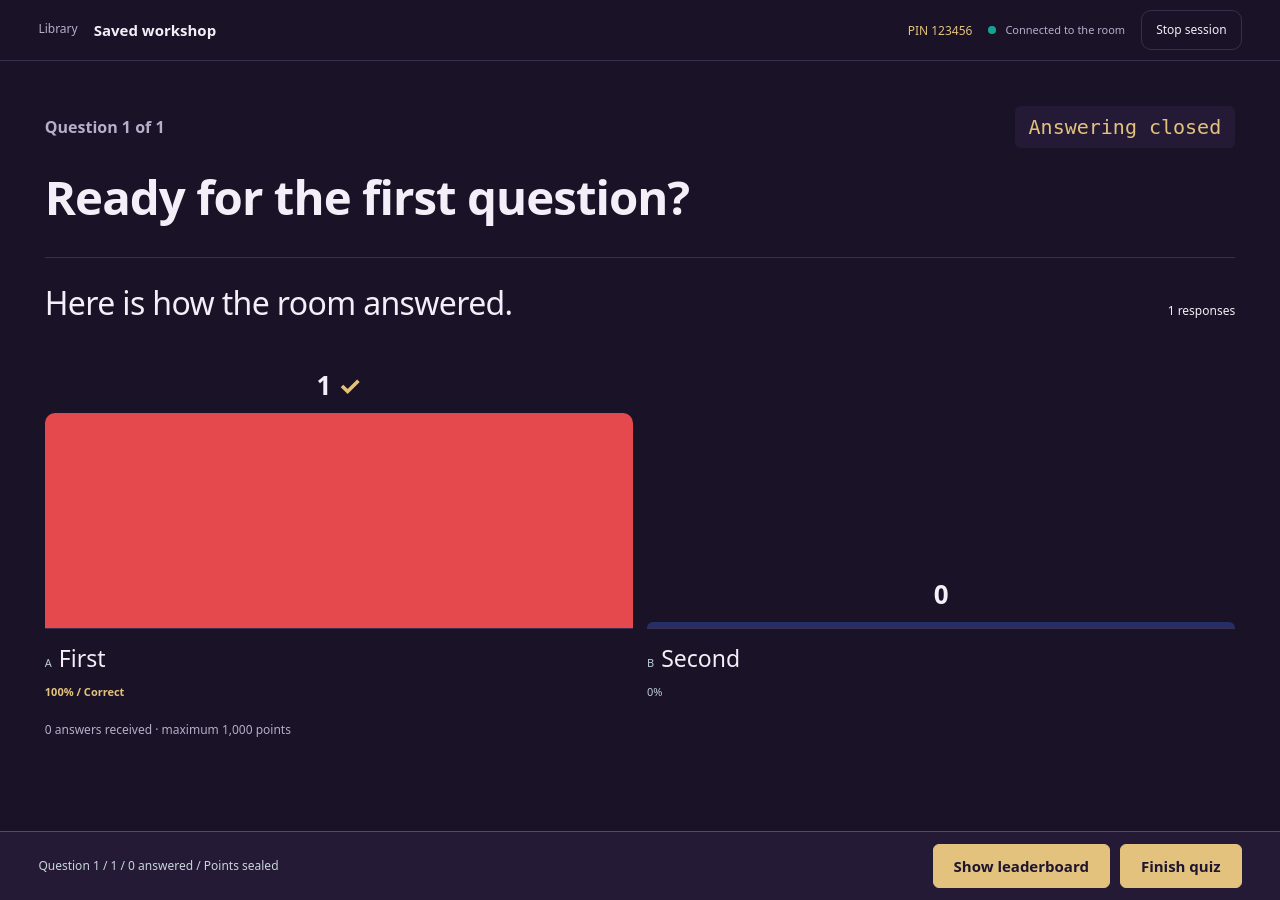
Test: uses one presentation canvas and replaces the question with the published leaderboard
Click the button "Show leaderboard" at (1021, 866), box [932, 844, 1110, 888]
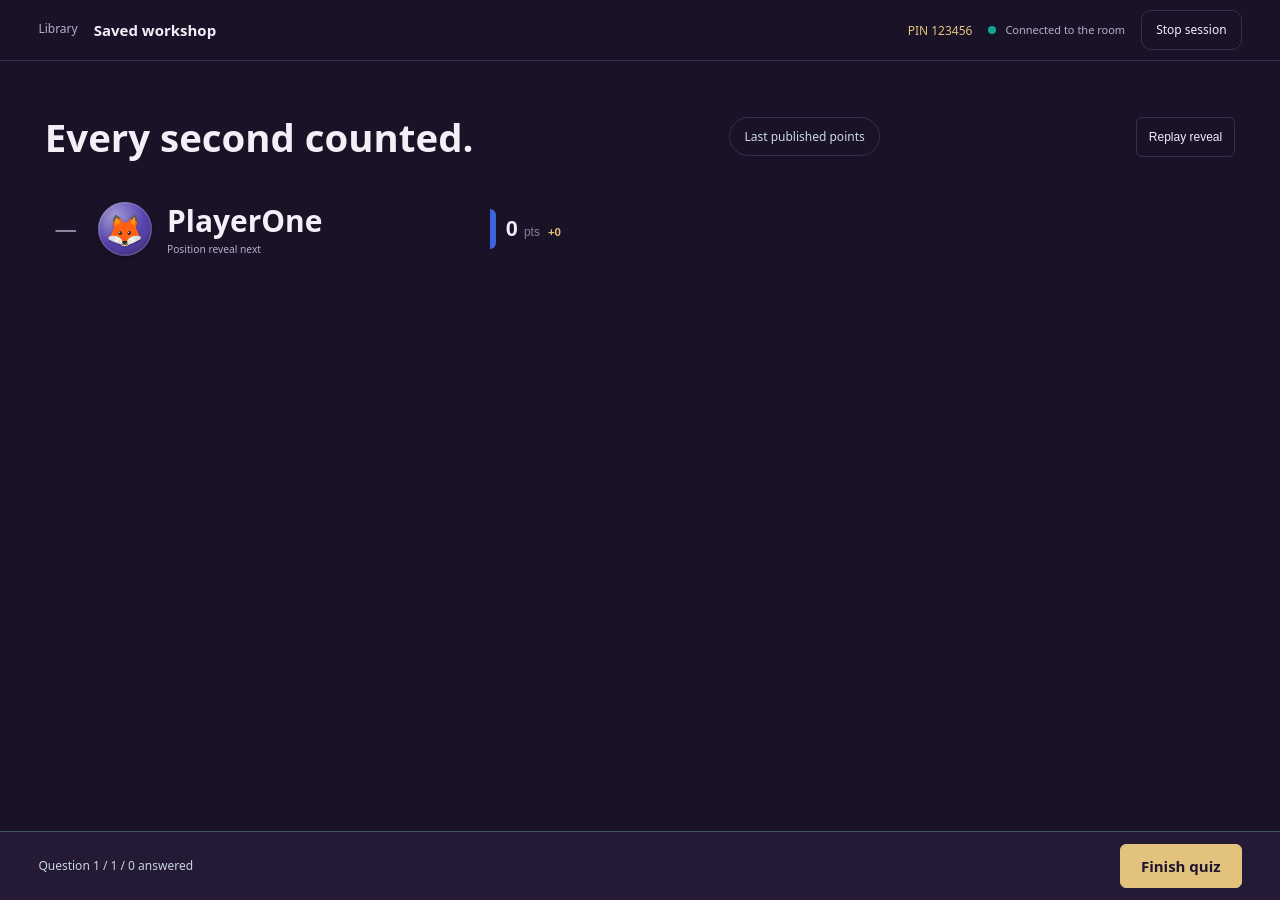
Now the element with class "live-question" is gone
